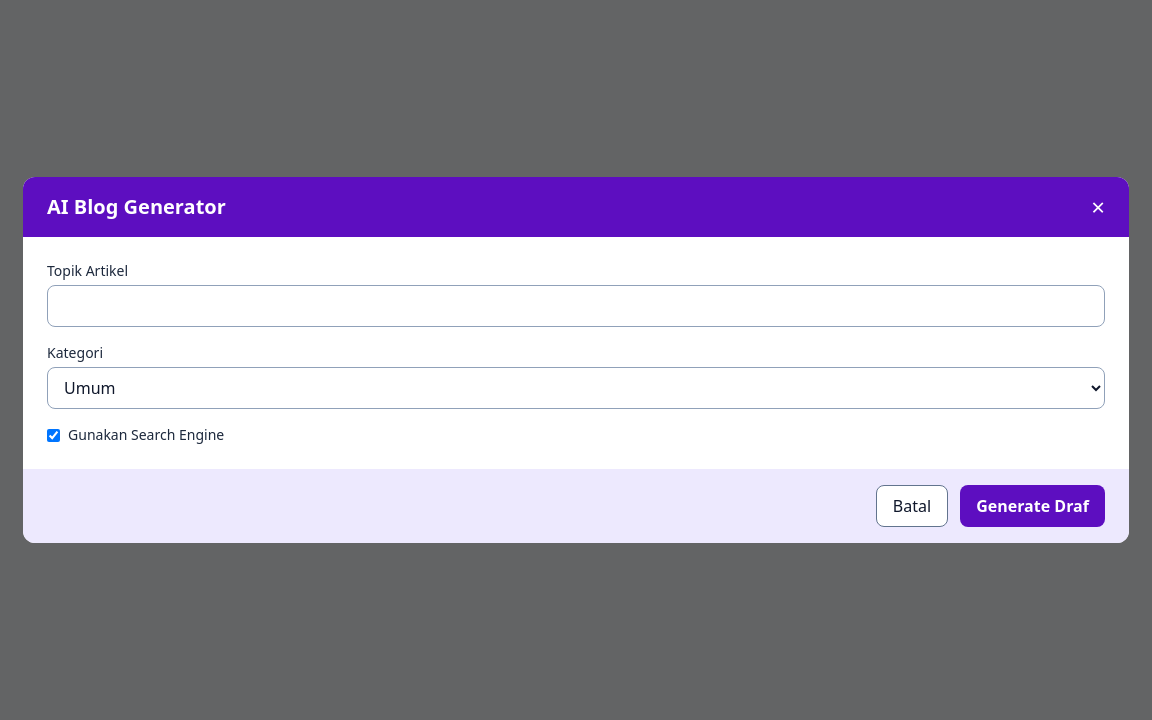
Test case: AiPostGeneratorModal › menolak topik kosong
Expected: the dialog "AI Blog Generator" is shown, [23,177,1129,543]
Click the button "Generate Draf": x=1032, y=506 [960,485,1105,527]
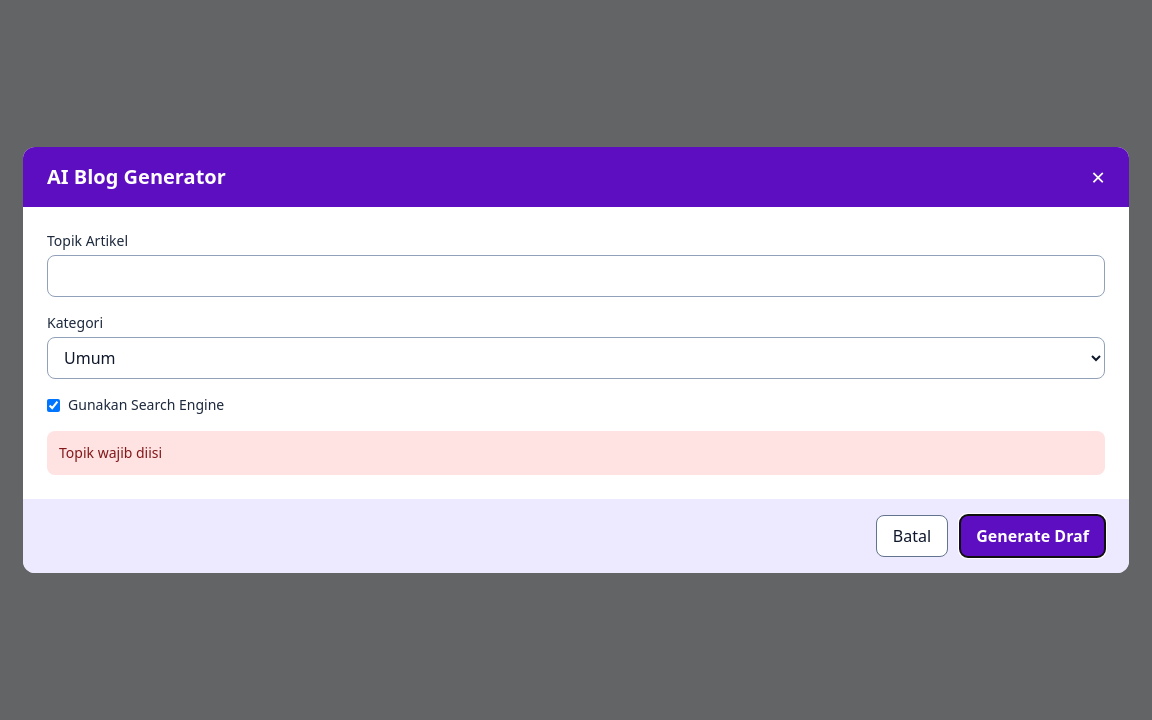
Expected: the message reads "Topik wajib diisi", [59,443,162,462]
